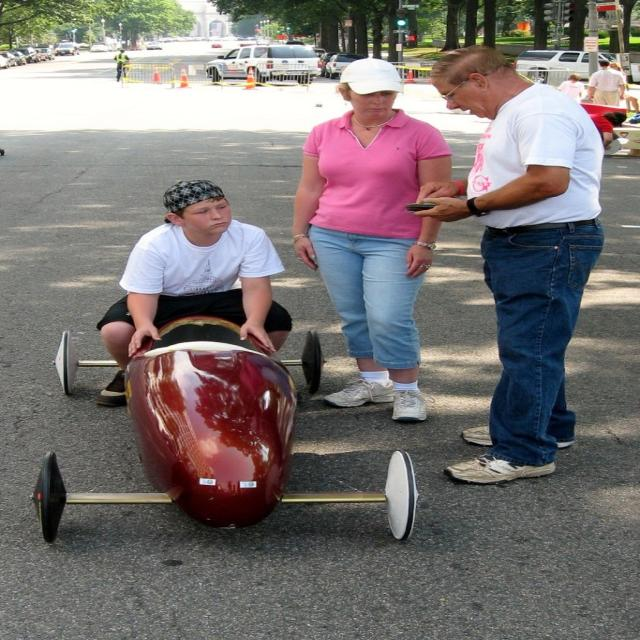car: (144, 40, 160, 47)
